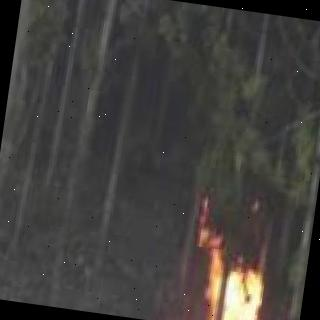fire: (145, 208, 308, 320)
